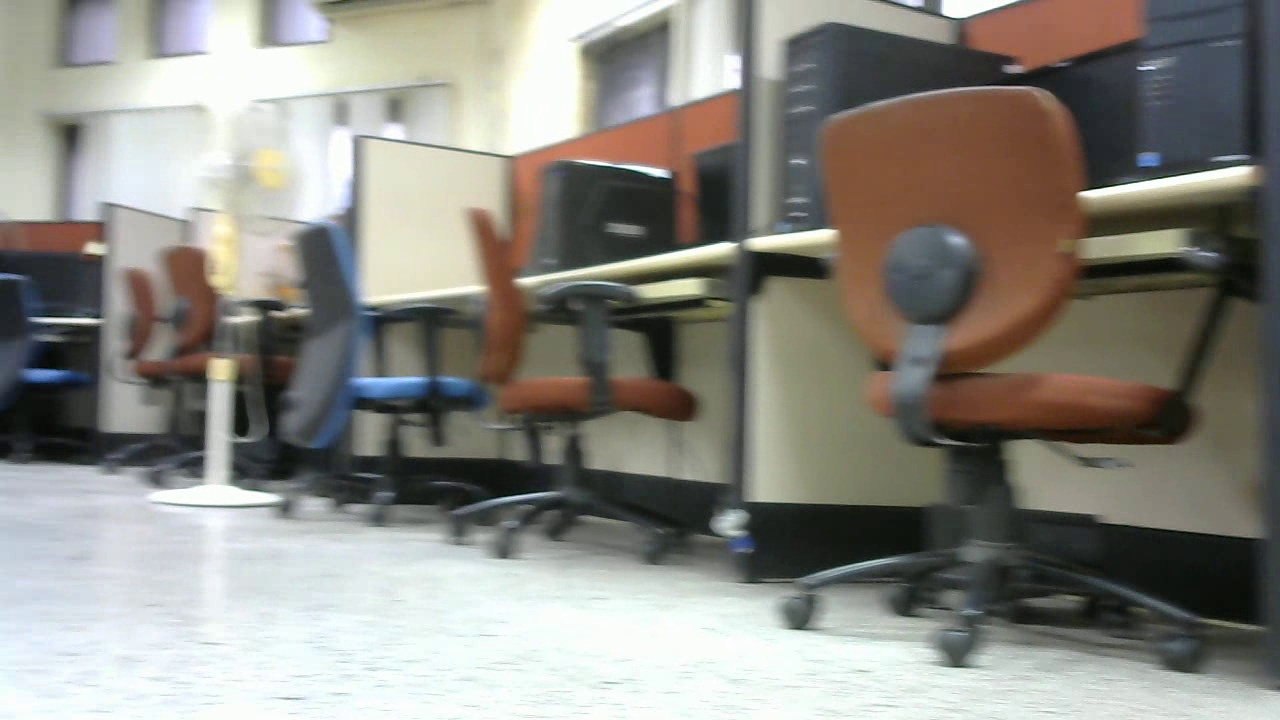chair: (749, 85, 1236, 676), (444, 204, 702, 563), (267, 218, 506, 527), (100, 240, 298, 486)
